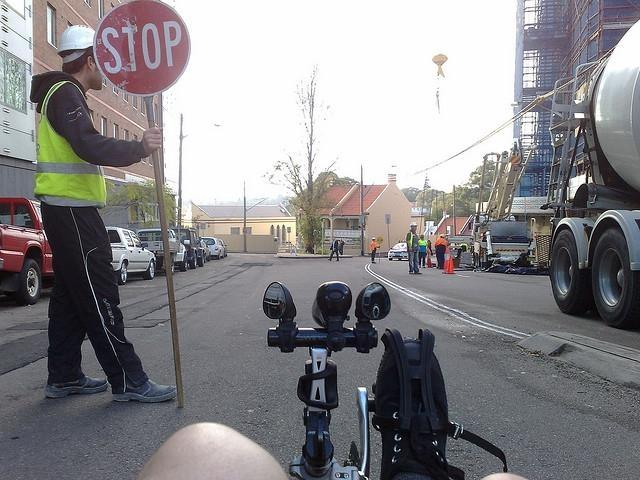car: (173, 229, 206, 269), (201, 236, 225, 260), (388, 243, 410, 262), (198, 237, 210, 260)
truck: (542, 17, 640, 332), (0, 198, 58, 304), (472, 220, 538, 268), (108, 226, 156, 284), (138, 227, 188, 273)
